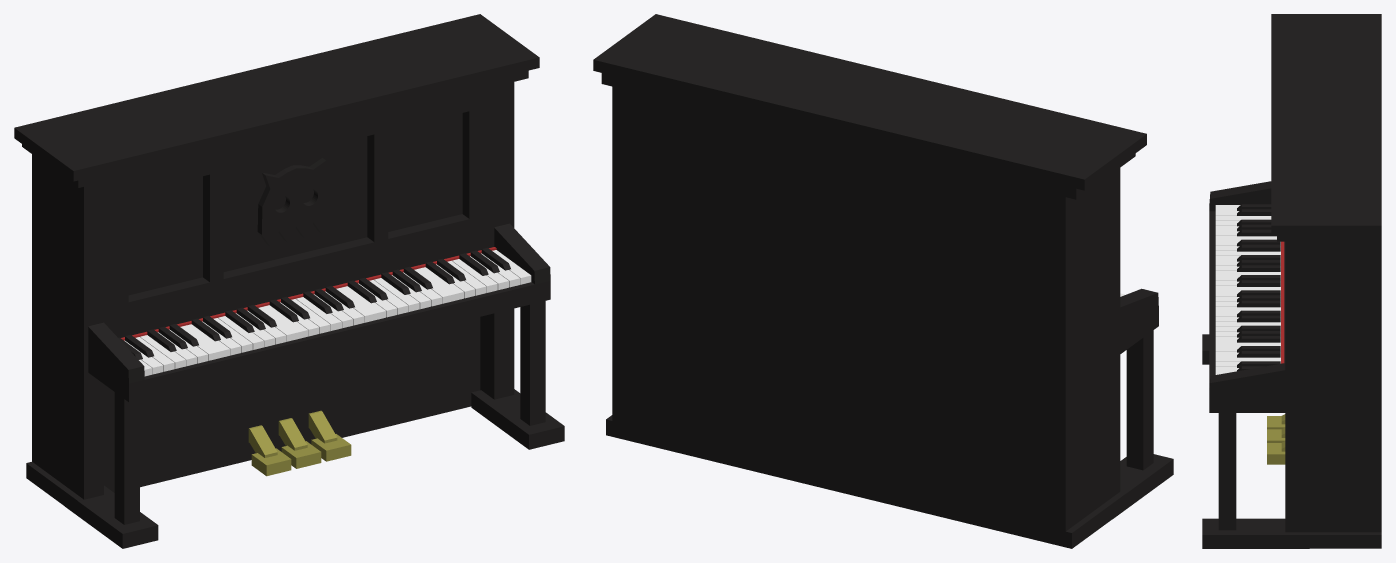
3 views of the same model, side by side, from view 1: azimuth 30°, elevation 25°; view 2: azimuth 150°, elevation 25°; view 3: azimuth 270°, elevation 25° (orthographic). The views are drawn at different scales.
Parts seen in each view (by area): view 1: piano-shell, keys, key-support, support, emblem, pedals; view 2: piano-shell, support, key-support; view 3: piano-shell, keys, key-support, support, pedals.
Boxes of the visible parts, x1,y1,x2,y2 form: piano-shell: (14, 14, 539, 515); keys: (118, 247, 531, 376); key-support: (88, 223, 550, 402); support: (67, 301, 564, 548); emblem: (257, 158, 330, 246); pedals: (248, 410, 351, 476); piano-shell: (593, 14, 1146, 548); support: (1113, 330, 1173, 518); key-support: (1120, 288, 1158, 353); piano-shell: (1271, 14, 1381, 548); keys: (1215, 204, 1280, 374); key-support: (1209, 181, 1285, 412); support: (1202, 334, 1309, 548); pedals: (1267, 414, 1285, 464).
Bounding box in the file's own units: 1038 × 752 × 372.
